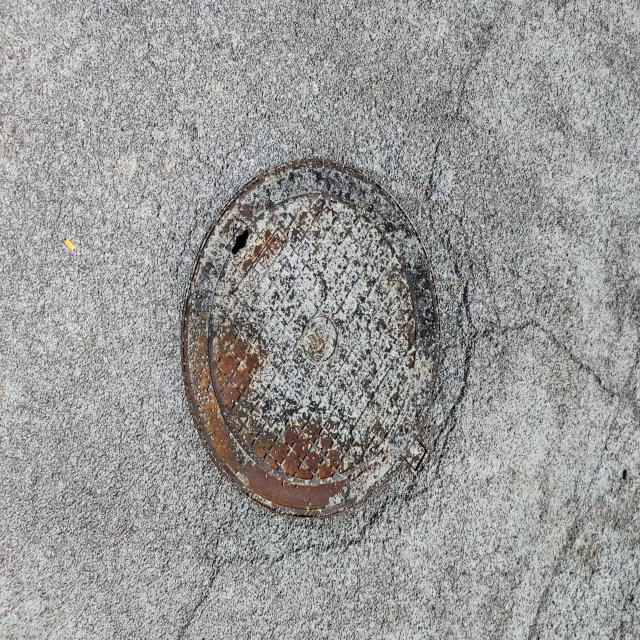Good: (173, 148, 460, 521)
